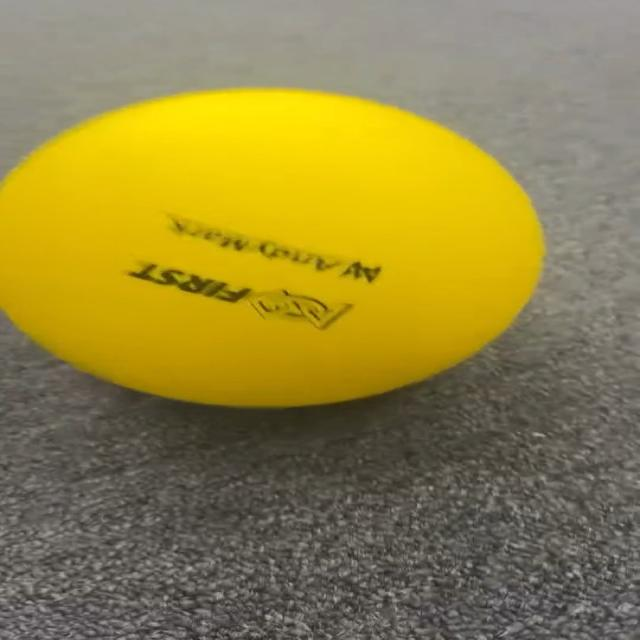Fuels: (3, 90, 543, 405)
